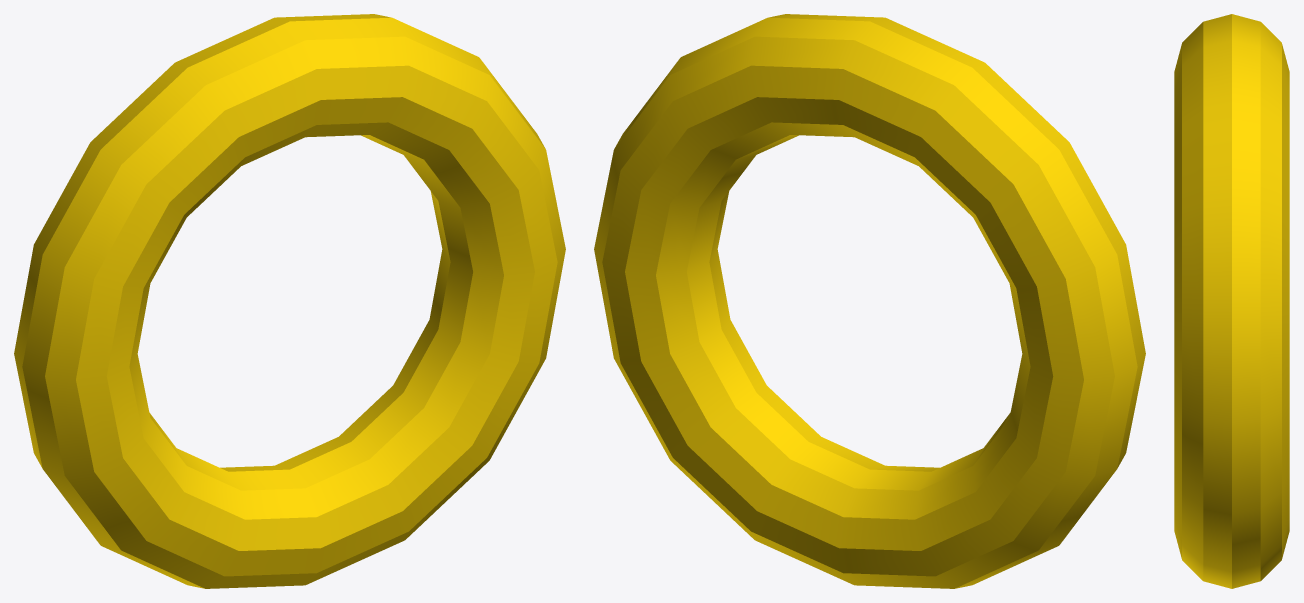
Rendered from Ring.fbx.
The picture shows the model from 3 angles, left to right: view 1: azimuth 30°, elevation 25°; view 2: azimuth 150°, elevation 25°; view 3: azimuth 270°, elevation 25°; orthographic projection. The views are drawn at different scales.
Visible parts, largest first — view 1: pTorus1; view 2: pTorus1; view 3: pTorus1.
Part boxes in pixels (x1=…): pTorus1: x1=14, y1=14, x2=565, y2=588; pTorus1: x1=594, y1=14, x2=1145, y2=588; pTorus1: x1=1174, y1=14, x2=1289, y2=588.
Size of the model in its own units: 2 by 2 by 0.4.
Materials: 1 (1 with a texture image).
